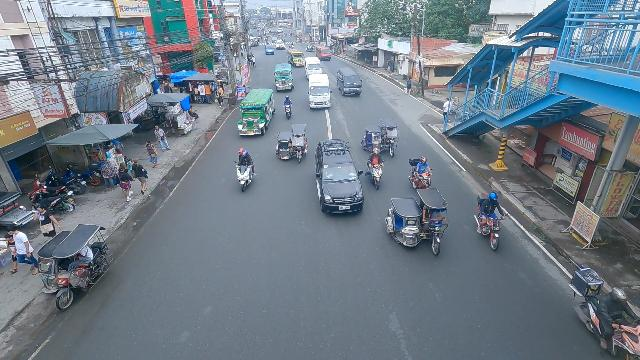car: (312, 139, 365, 215), (275, 39, 285, 50), (265, 45, 275, 55)
jeepney: (237, 88, 276, 137), (274, 63, 295, 92), (287, 50, 305, 68), (315, 46, 331, 61)
motorcycle: (568, 267, 640, 360), (476, 190, 507, 253), (235, 147, 255, 194), (408, 156, 433, 191), (365, 149, 385, 189), (281, 98, 293, 120), (291, 42, 294, 49)
van: (308, 73, 332, 111), (336, 67, 363, 97), (304, 56, 322, 79)
